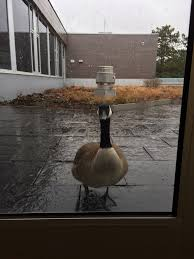goose: (67, 103, 127, 211)
